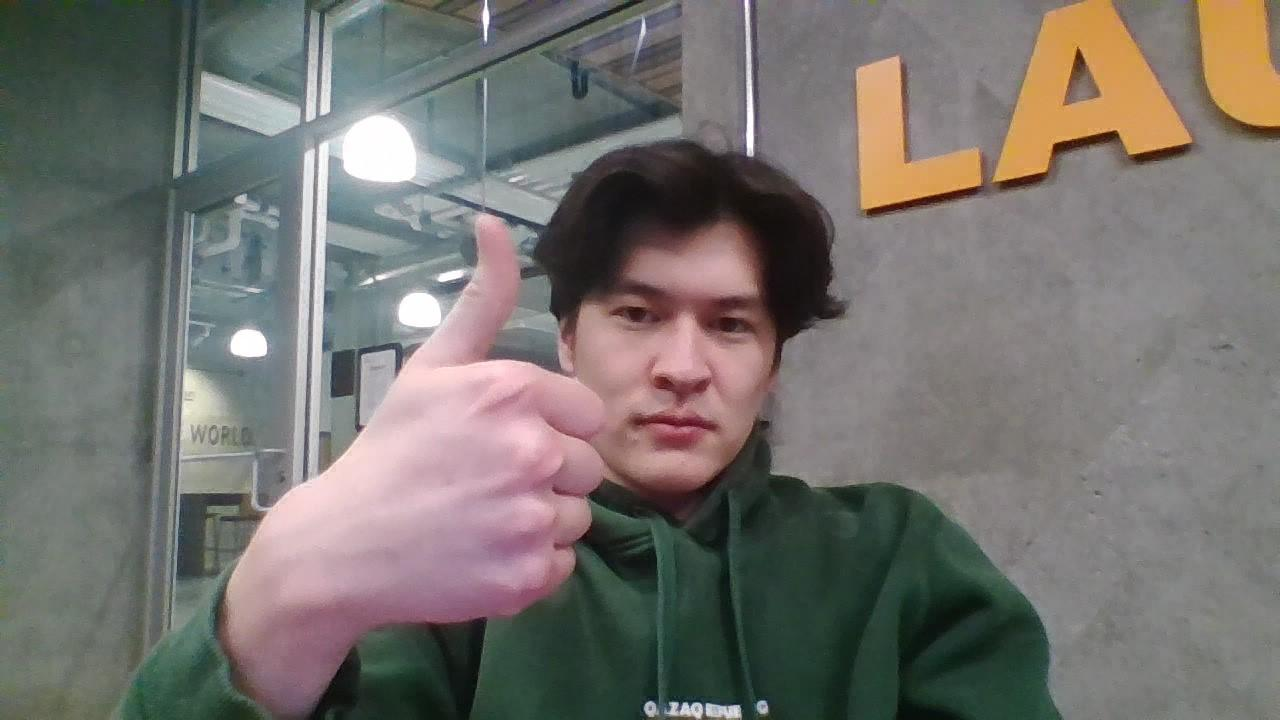thumbsUp: (343, 213, 607, 625)
